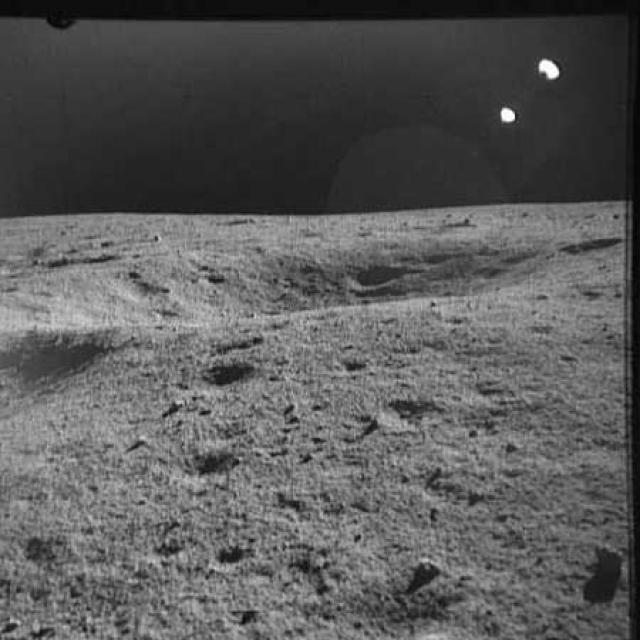crater: (176, 354, 274, 402), (170, 443, 243, 488), (375, 390, 437, 438), (344, 255, 412, 291), (137, 530, 191, 570), (207, 535, 256, 574), (104, 274, 163, 302), (330, 348, 367, 382), (500, 243, 547, 268), (223, 328, 259, 356), (193, 270, 231, 294), (150, 298, 180, 326), (421, 245, 451, 272), (105, 263, 145, 282), (472, 263, 504, 282)
rock: (584, 533, 628, 576), (417, 552, 443, 581), (454, 212, 483, 230)
